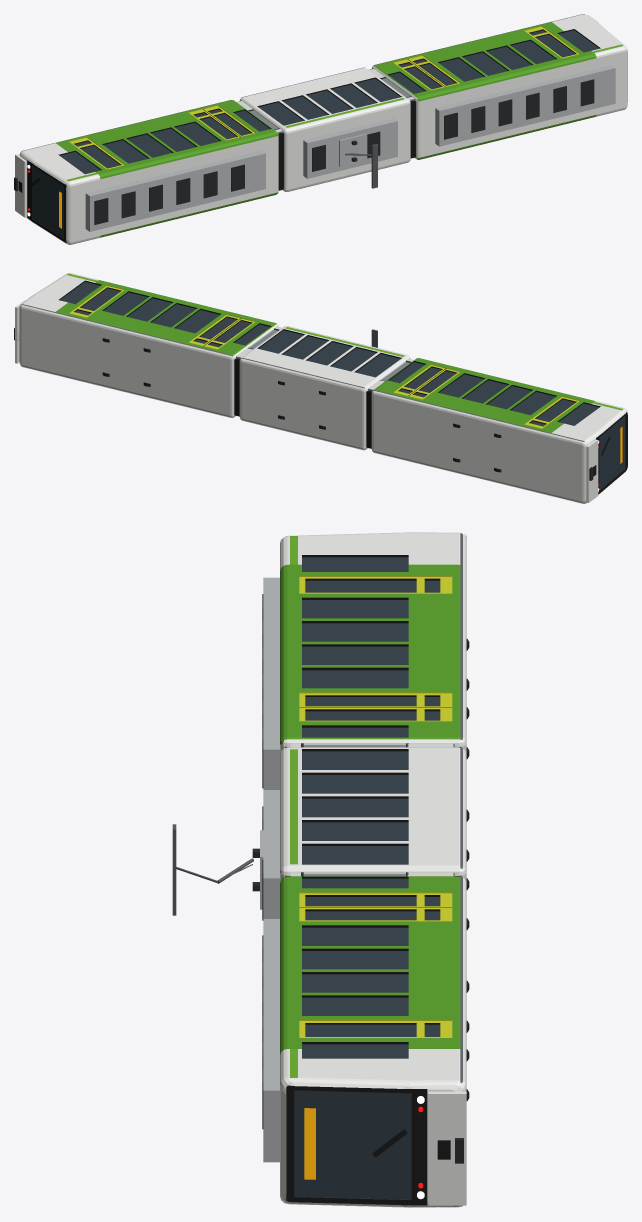
3 renders of one model, top to bottom at view 1: azimuth 30°, elevation 25°; view 2: azimuth 150°, elevation 25°; view 3: azimuth 270°, elevation 25°, orthographic. The views are drawn at different scales.
Visible parts, largest first — view 1: G_body_s0, G_body_s2, G_body_s1, G_roof_pod_030, G_roof_pod_019, G_roof_pod_026, G_pan_base_037, G_bumper_007, G_roof_grille_020, G_roof_grille_023, G_roof_grille_032, G_roof_grille_021 (+11 smaller); view 2: G_body_s0, G_body_s2, G_body_s1, G_bumper_007, G_bellows_001, G_bellows_002; view 3: G_body_s2, G_body_s0, G_body_s1, G_roof_pod_030, G_bumper_015, G_roof_pod_019, G_roof_pod_026.
Part boxes in pixels (left/top/right/bottom): G_body_s0: left=19, top=100, right=278, bottom=244; G_body_s2: left=371, top=14, right=627, bottom=159; G_body_s1: left=239, top=67, right=410, bottom=191; G_roof_pod_030: left=435, top=65, right=615, bottom=146; G_roof_pod_019: left=85, top=150, right=265, bottom=231; G_roof_pod_026: left=303, top=118, right=397, bottom=178; G_pan_base_037: left=339, top=133, right=367, bottom=166; G_bumper_007: left=15, top=154, right=26, bottom=217; G_roof_grille_020: left=94, top=198, right=108, bottom=224; G_roof_grille_023: left=176, top=178, right=190, bottom=204; G_roof_grille_032: left=471, top=106, right=485, bottom=132; G_roof_grille_021: left=121, top=191, right=135, bottom=218; G_body_s0: left=371, top=358, right=627, bottom=503; G_body_s2: left=19, top=273, right=278, bottom=417; G_body_s1: left=239, top=326, right=410, bottom=450; G_bumper_007: left=586, top=439, right=598, bottom=502; G_bellows_001: left=366, top=390, right=371, bottom=448; G_bellows_002: left=234, top=358, right=239, bottom=416; G_body_s2: left=280, top=876, right=466, bottom=1207; G_body_s0: left=280, top=532, right=466, bottom=753; G_body_s1: left=280, top=747, right=466, bottom=882; G_roof_pod_030: left=263, top=919, right=279, bottom=1162; G_bumper_015: left=428, top=1091, right=466, bottom=1205; G_roof_pod_019: left=263, top=577, right=279, bottom=789; G_roof_pod_026: left=263, top=790, right=279, bottom=918.
Bounding box in the file's own units: 25.36 × 2.65 × 5.64.
